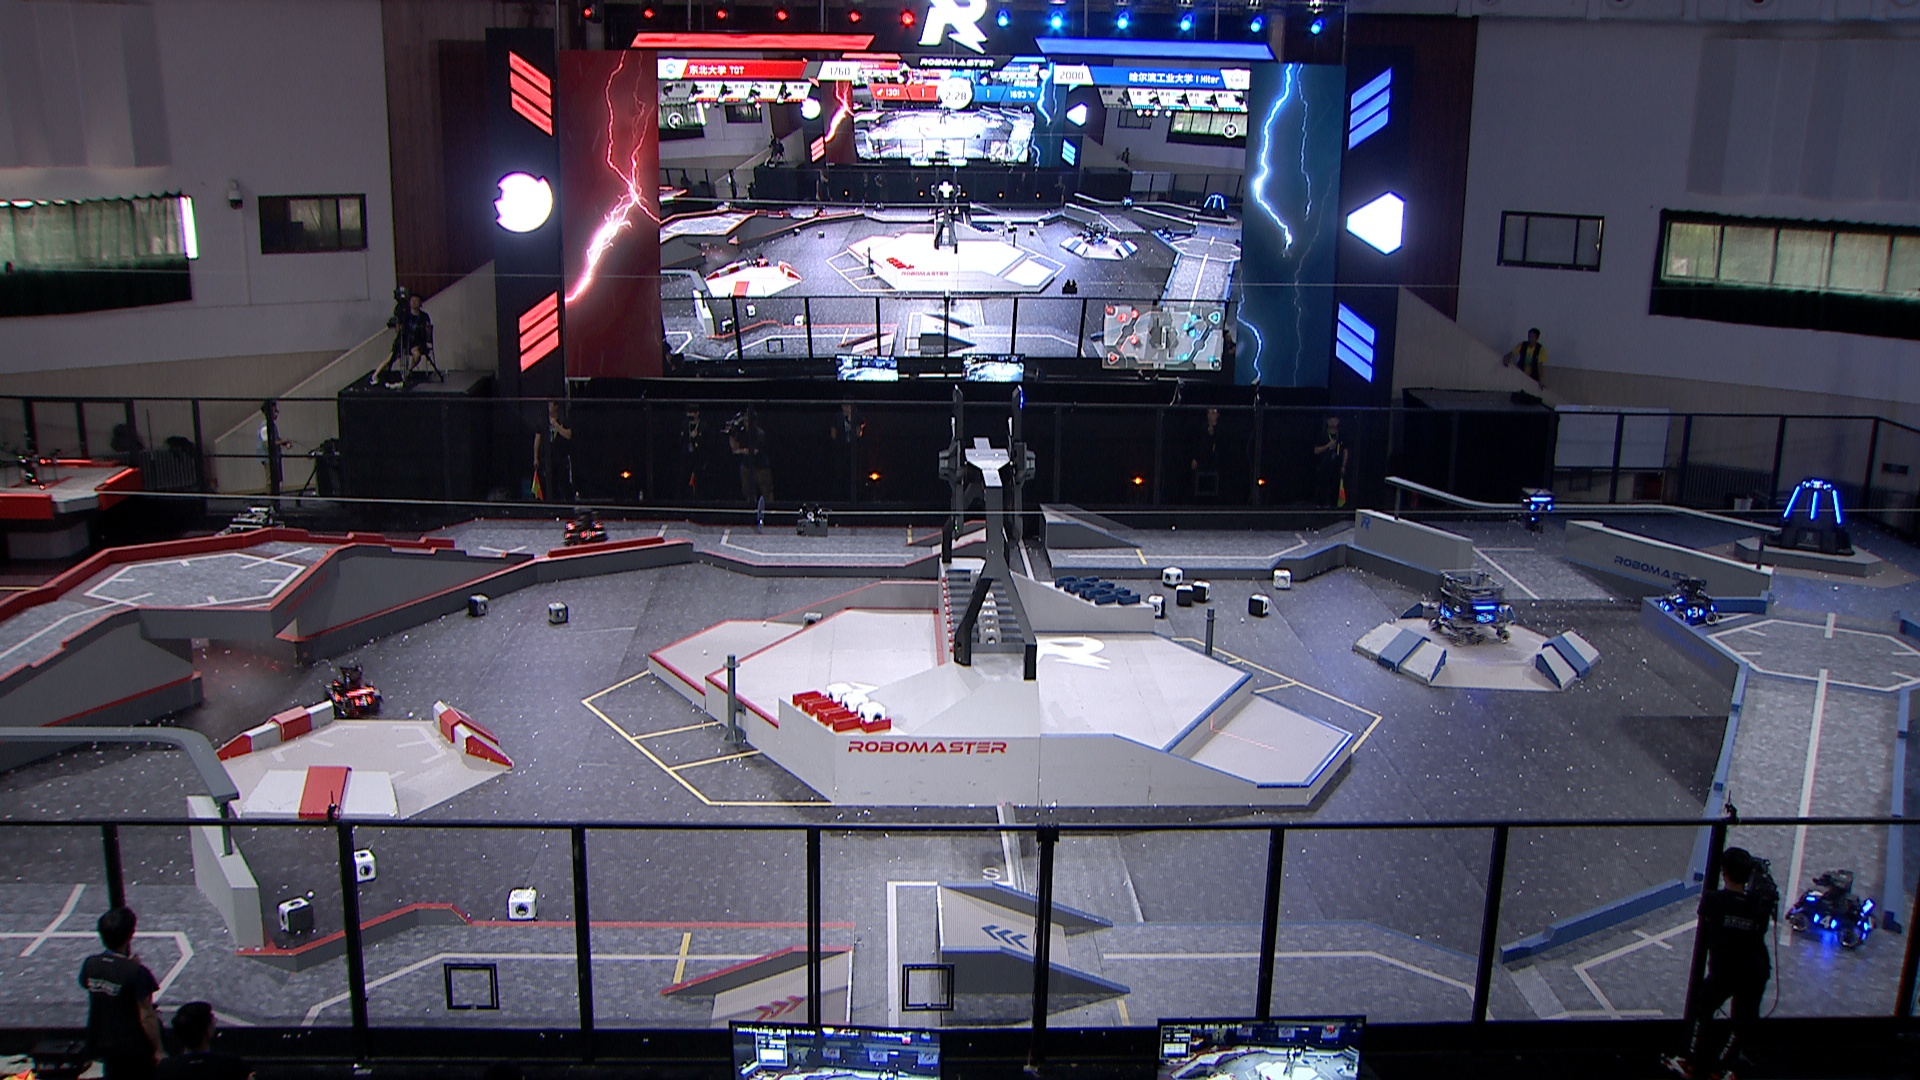armor: (1780, 481, 1803, 520), (1828, 485, 1844, 527), (1813, 911, 1840, 930), (324, 684, 344, 705), (1807, 489, 1820, 520), (1859, 911, 1879, 931), (1528, 498, 1552, 514), (1804, 884, 1822, 903), (1804, 477, 1830, 491), (1685, 604, 1705, 621), (353, 692, 375, 708), (1665, 588, 1685, 604), (1658, 595, 1673, 615), (576, 527, 597, 541), (1474, 611, 1494, 624), (1437, 604, 1452, 621)
base: (1762, 473, 1855, 560)
car: (1780, 866, 1882, 949), (1424, 564, 1515, 651), (208, 504, 295, 583), (1652, 572, 1722, 632), (320, 659, 384, 723), (560, 500, 609, 550)
ignore: (1079, 219, 1112, 247), (1200, 193, 1230, 219), (1156, 224, 1178, 243), (1117, 194, 1135, 211)
watcher: (1516, 481, 1557, 534)
